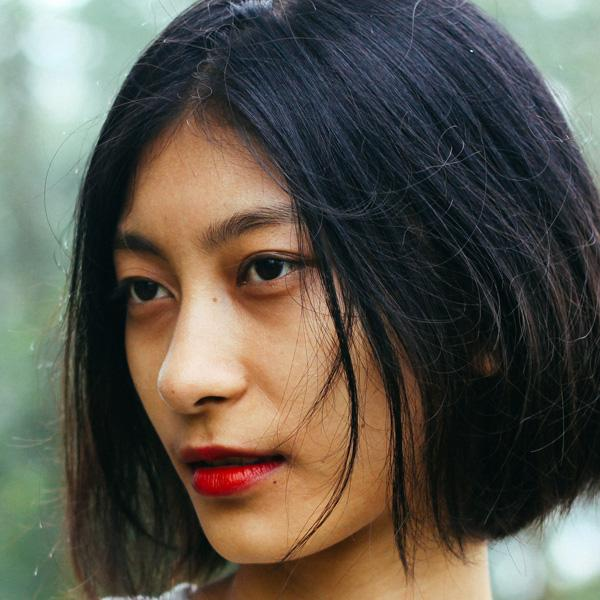Eyes: (231, 236, 319, 309), (115, 261, 181, 330)
